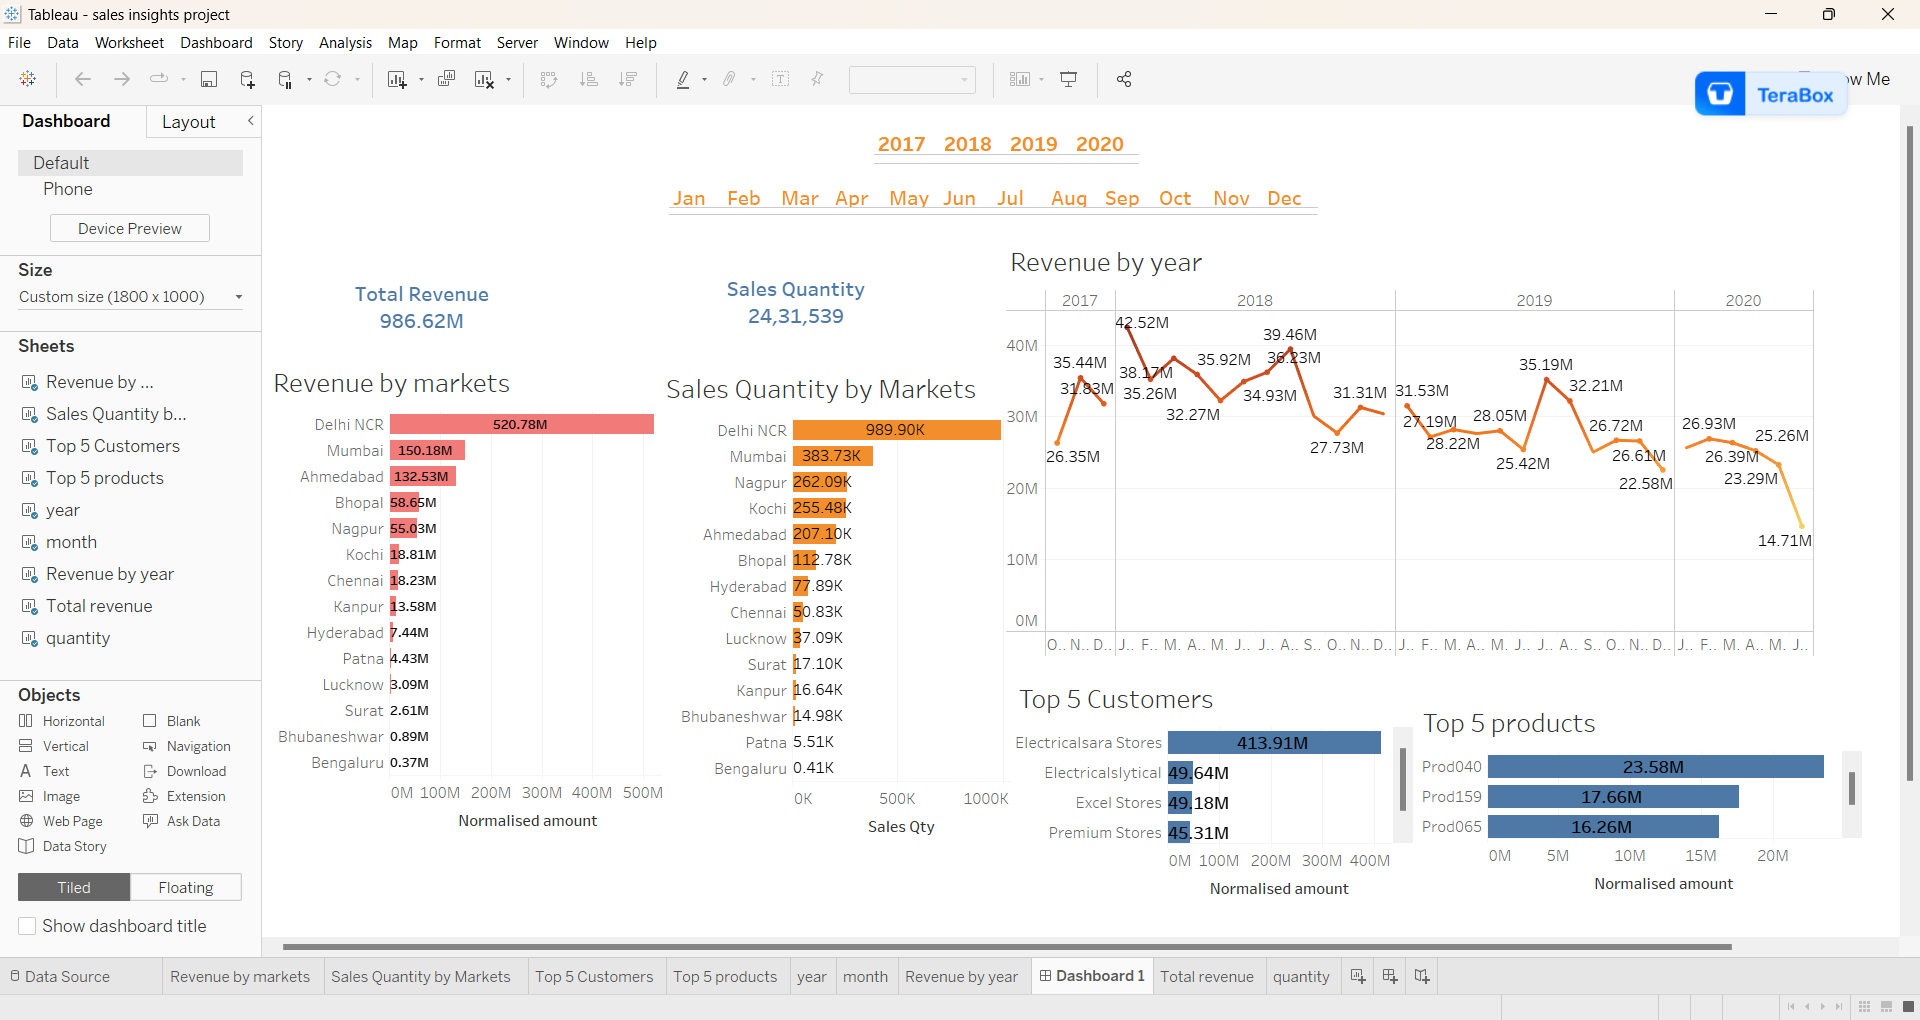

The page's visual inventory and layout, read from the dashboard file:
{"tool":"tableau","page":{"name":"Dashboard 1","canvas":[1800,1000],"ordinal":0},"visuals":[{"type":"worksheet","title":"year","mark":"Automatic","cols":["cy_date"],"box":[612,27,292,32]},{"type":"worksheet","title":"month","mark":"Automatic","cols":["cy_date"],"box":[407,82,659,37]},{"type":"worksheet","title":"Revenue by year","mark":"Automatic","rows":["Calculation_1111263225949818880"],"cols":["cy_date","cy_date"],"box":[744,135,809,417]},{"type":"worksheet","title":"quantity","mark":"Automatic","box":[454,142,230,106]},{"type":"worksheet","title":"Total revenue","mark":"Automatic","box":[80,147,252,92]},{"type":"worksheet","title":"Revenue by markets","mark":"Automatic","rows":["markets_name"],"cols":["Calculation_1111263225949818880"],"box":[7,256,398,525]},{"type":"worksheet","title":"Sales Quantity by Markets","mark":"Automatic","rows":["markets_name"],"cols":["sales_qty"],"box":[400,262,349,480]},{"type":"worksheet","title":"Top 5 Customers","mark":"Automatic","rows":["custmer_name"],"cols":["Calculation_1111263225949818880"],"box":[753,572,398,229]},{"type":"worksheet","title":"Top 5 products","mark":"Automatic","rows":["product_code (products)"],"cols":["Calculation_1111263225949818880"],"box":[1157,596,443,200]}]}

Visuals, with their boxes on the page's 1800x1000 design canvas (x1, y1, x2, y2). These are canvas units, not pixel positions in the 1920x1020 screenshot, which may show the page scaled, cropped or inside an application window:
"year" worksheet: 612, 27, 904, 59
"month" worksheet: 407, 82, 1066, 119
"Revenue by year" worksheet: 744, 135, 1553, 552
"quantity" worksheet: 454, 142, 684, 248
"Total revenue" worksheet: 80, 147, 332, 239
"Revenue by markets" worksheet: 7, 256, 405, 781
"Sales Quantity by Markets" worksheet: 400, 262, 749, 742
"Top 5 Customers" worksheet: 753, 572, 1151, 801
"Top 5 products" worksheet: 1157, 596, 1600, 796
